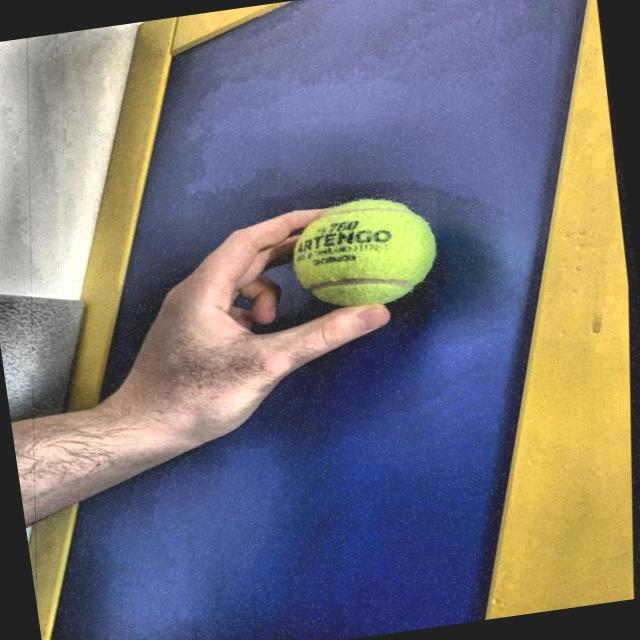Tennis Ball: (282, 181, 456, 322)
